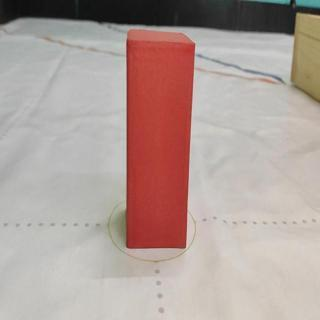redbox: (125, 27, 196, 248)
